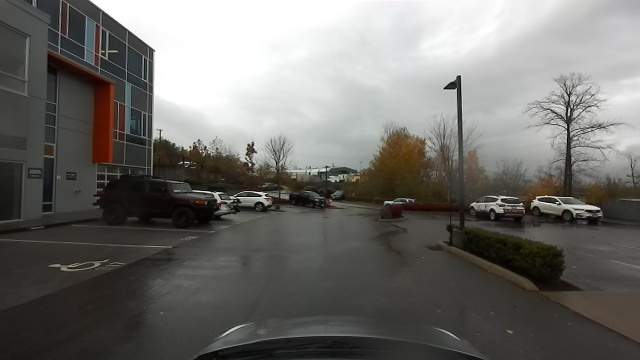car: (92, 173, 216, 227), (531, 193, 605, 226), (469, 191, 527, 222), (288, 189, 330, 212), (241, 190, 272, 212), (215, 191, 238, 218)
